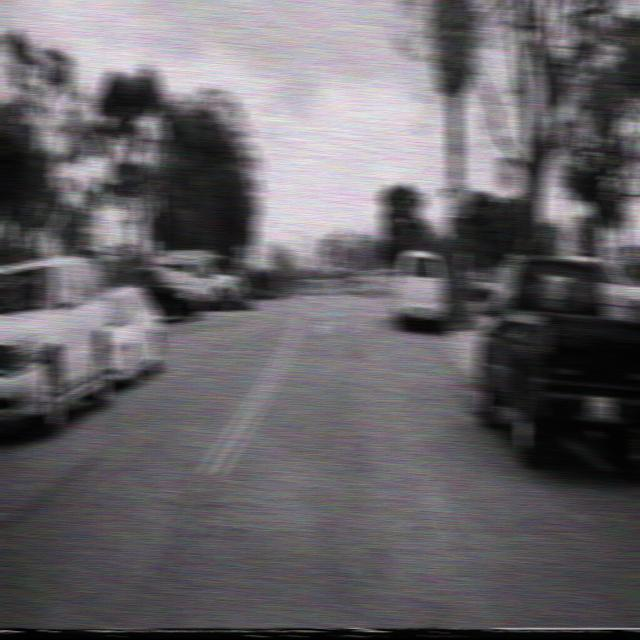doNotEnter: (81, 210, 101, 249)
stop: (445, 178, 469, 218)
